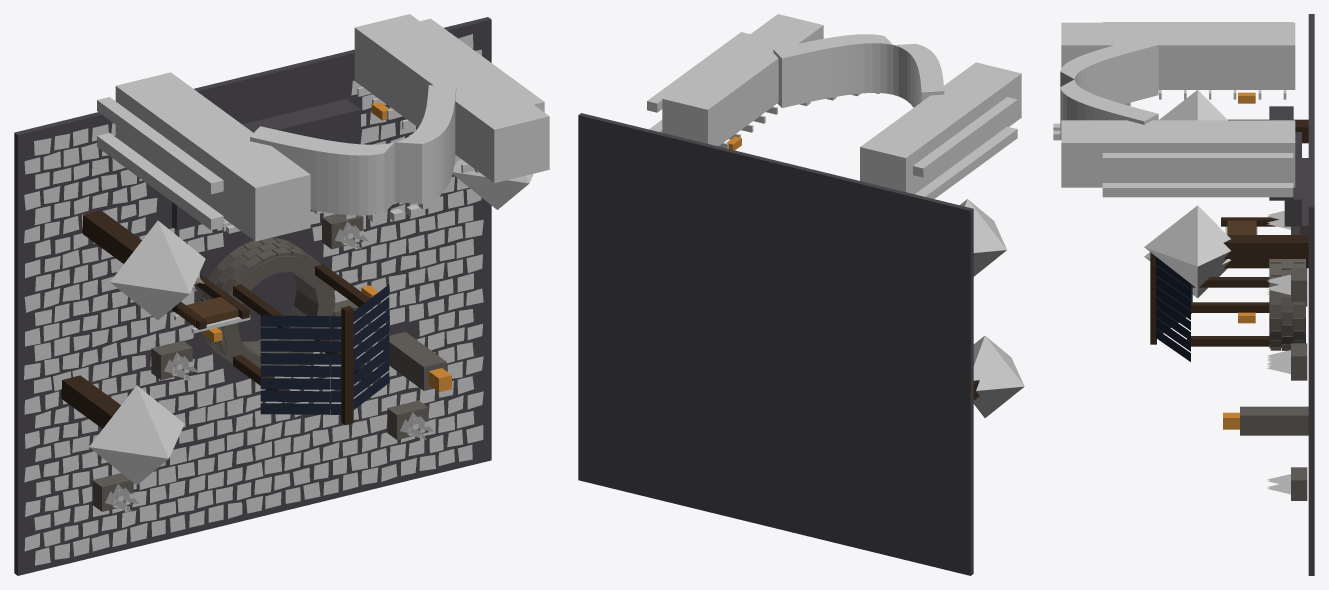
Rendered from t2-central-square-gothic.obj.
3 renders of one model, left to right at view 1: azimuth 30°, elevation 25°; view 2: azimuth 150°, elevation 25°; view 3: azimuth 270°, elevation 25°, orthographic. The views are drawn at different scales.
Visible parts, largest first — view 1: town.center.paving, town.center.world-gate-masonry, town.center.paving-cobbles-mid, town.center.paving-cobbles-light, town.center.paving-cobbles-dark, town.center.foliage-crowns, town.center.well-roof-tiles, town.center.well, town.center.courtyard-planters, town.center.foliage-trunks, town.center.gate-stairs, town.center.well-brickwork (+6 smaller); view 2: town.center.paving, town.center.world-gate-masonry, town.center.foliage-crowns; view 3: town.center.world-gate-masonry, town.center.foliage-crowns, town.center.paving, town.center.foliage-trunks, town.center.well-roof-tiles, town.center.well-supports, town.center.well-brickwork, town.center.lantern-pillar, town.center.gate-stairs, town.center.courtyard-planters, town.center.courtyard-foliage, town.center.well-roof-ridge (+5 smaller).
Boxes of the visible parts, x1,y1,x2,y2 form: town.center.paving: (14, 17, 491, 575); town.center.world-gate-masonry: (97, 14, 549, 241); town.center.paving-cobbles-mid: (33, 94, 464, 565); town.center.paving-cobbles-light: (24, 34, 483, 559); town.center.paving-cobbles-dark: (72, 80, 406, 556); town.center.foliage-crowns: (89, 159, 533, 485); town.center.well-roof-tiles: (260, 284, 389, 414); town.center.well: (217, 256, 333, 368); town.center.courtyard-planters: (92, 214, 428, 511); town.center.foliage-trunks: (61, 210, 141, 428); town.center.gate-stairs: (172, 99, 360, 230); town.center.well-brickwork: (201, 237, 335, 365); town.center.paving: (578, 113, 973, 575); town.center.world-gate-masonry: (647, 14, 1021, 198); town.center.foliage-crowns: (960, 199, 1024, 417); town.center.world-gate-masonry: (1060, 22, 1295, 197); town.center.foliage-crowns: (1144, 90, 1230, 298); town.center.paving: (1308, 14, 1314, 575); town.center.foliage-trunks: (1223, 119, 1308, 268); town.center.well-roof-tiles: (1156, 257, 1190, 361); town.center.well-supports: (1187, 277, 1269, 346); town.center.well-brickwork: (1270, 259, 1304, 350); town.center.lantern-pillar: (1240, 406, 1308, 435); town.center.gate-stairs: (1269, 106, 1308, 235); town.center.courtyard-planters: (1291, 226, 1307, 500); town.center.courtyard-foliage: (1267, 211, 1290, 494); town.center.well-roof-ridge: (1150, 252, 1156, 344).
Size of the model in its own units: 9 by 8.68 by 5.14.
